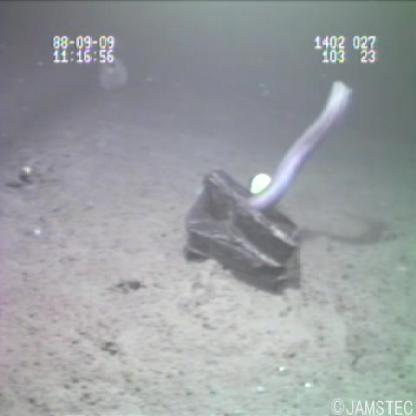Bio: (240, 74, 357, 220)
Rác: (178, 165, 306, 296)
